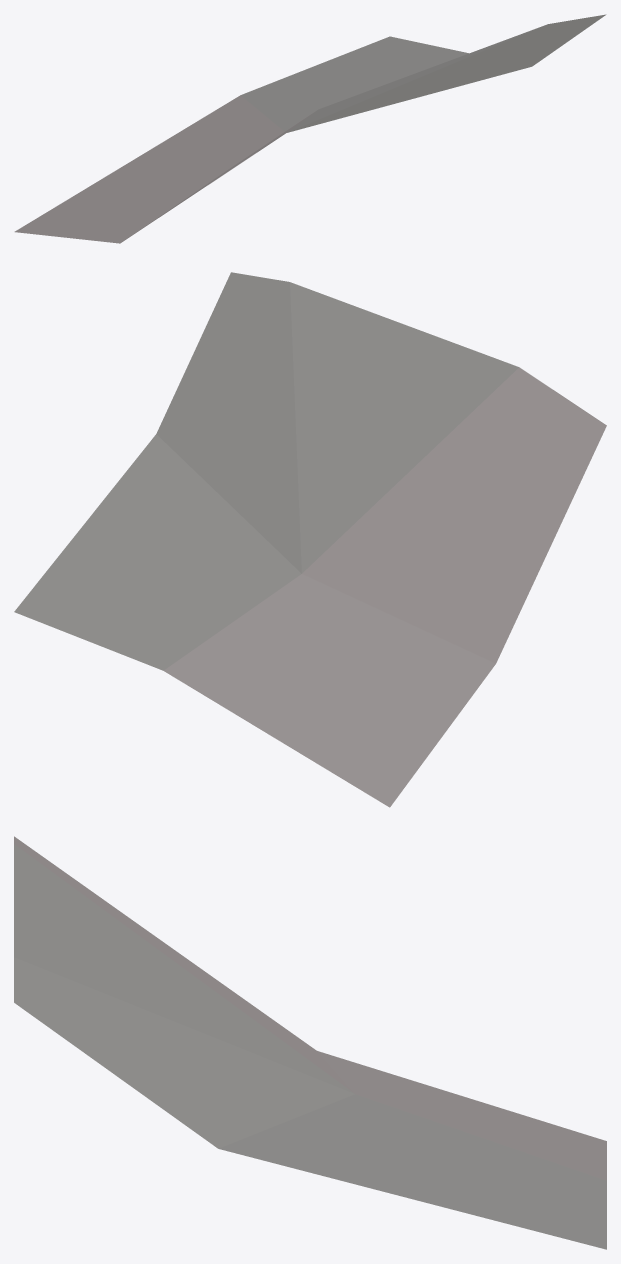
3 views of the same model, one above another, from view 1: azimuth 30°, elevation 25°; view 2: azimuth 150°, elevation 25°; view 3: azimuth 270°, elevation 25° (orthographic). The views are drawn at different scales.
Size of the model in its own units: 0.983 by 0.7233 by 0.983.
1 material, 1 textured.
